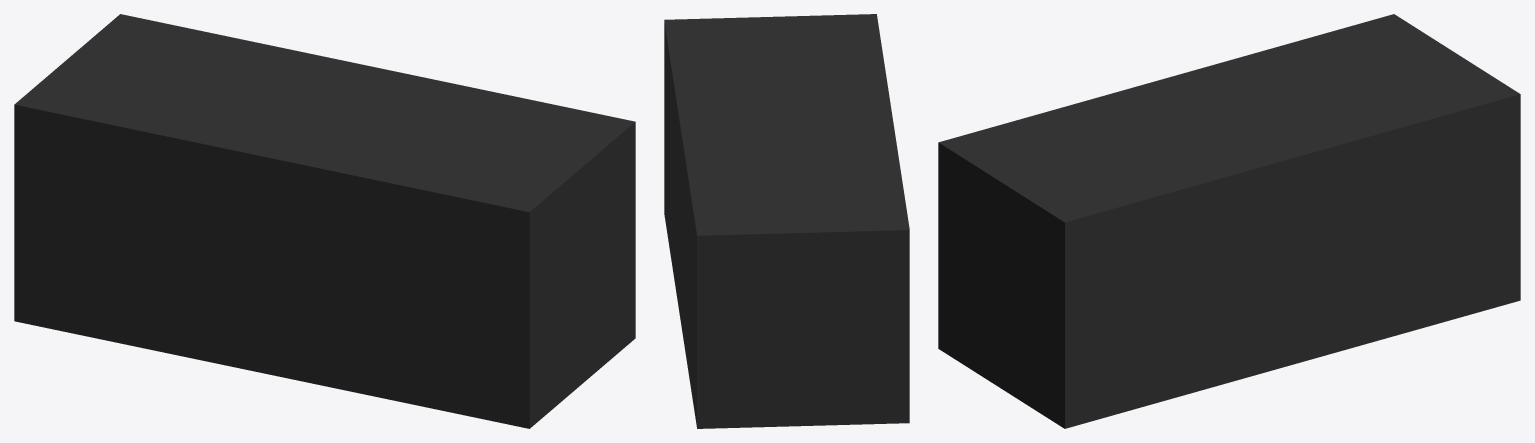
File: main_frame__rear_down_strut.glb
3 renders of one model, left to right at view 1: azimuth 30°, elevation 25°; view 2: azimuth 150°, elevation 25°; view 3: azimuth 270°, elevation 25°, orthographic. The views are drawn at different scales.
Parts seen in each view (by area): view 1: world; view 2: world; view 3: world.
Part boxes in pixels (<box>): world: <box>14,14,635,428</box>; world: <box>664,14,909,428</box>; world: <box>938,14,1520,428</box>.
Bounding box in the file's own units: 0.1299 × 0.06 × 0.1533.
Materials: 1 (1 with a texture image).
